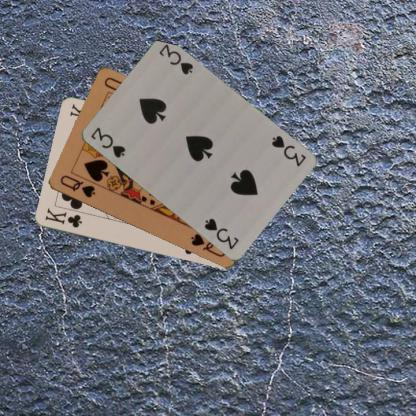3s: (87, 124, 127, 160), (268, 132, 307, 168)
Kc: (42, 205, 83, 229)
Qs: (57, 173, 97, 199)
